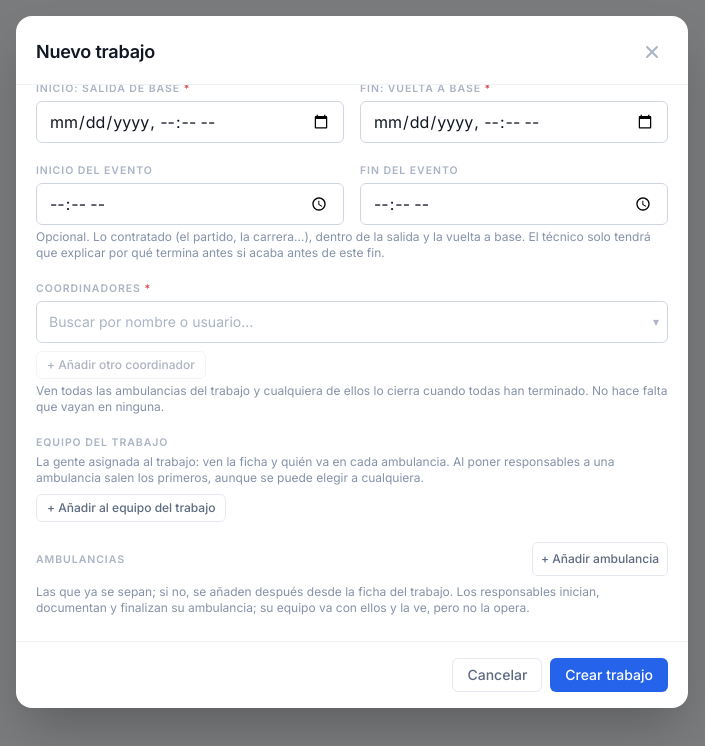
Scenario: TrabajoForm · aviso de hora de inicio pasada › avisa en la ambulancia, con su hora o con la del trabajo si la deja en blanco
(page scrolled)
Click the button "+ Añadir ambulancia" at (600, 559), box [532,542,668,576]
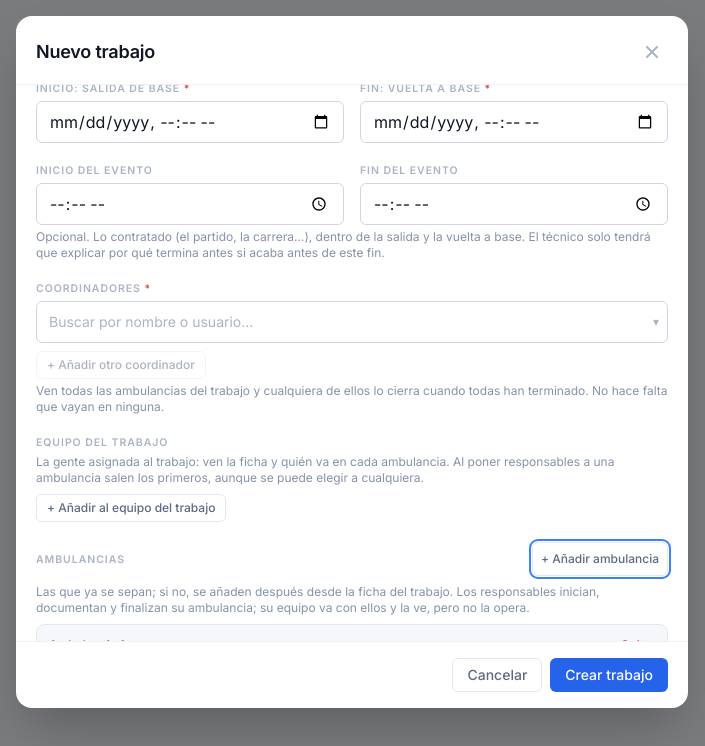
# En blanco toma la del trabajo
Type "2020-01-01T10:00" into the field below "Inicio: salida de base" at (190, 122), box [36,101,344,143]
(page scrolled)
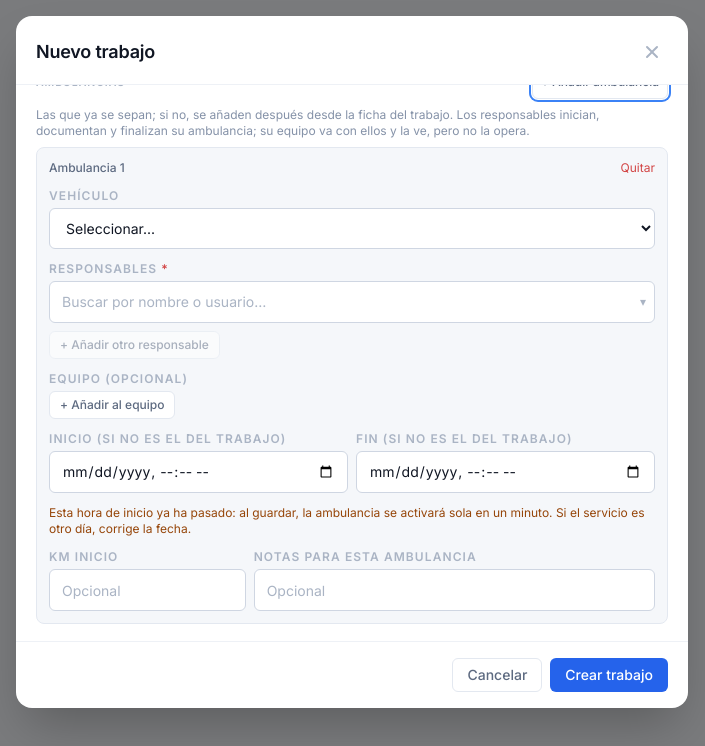
Expected: the text with test id "aviso-inicio-pasado" shows "se activará sola en un minuto", [49,505,644,536]
Type "2099-01-01T10:00" into the field below "Inicio (si no es el del trabajo)" at (198, 472), box [49,451,348,493]
(page scrolled)
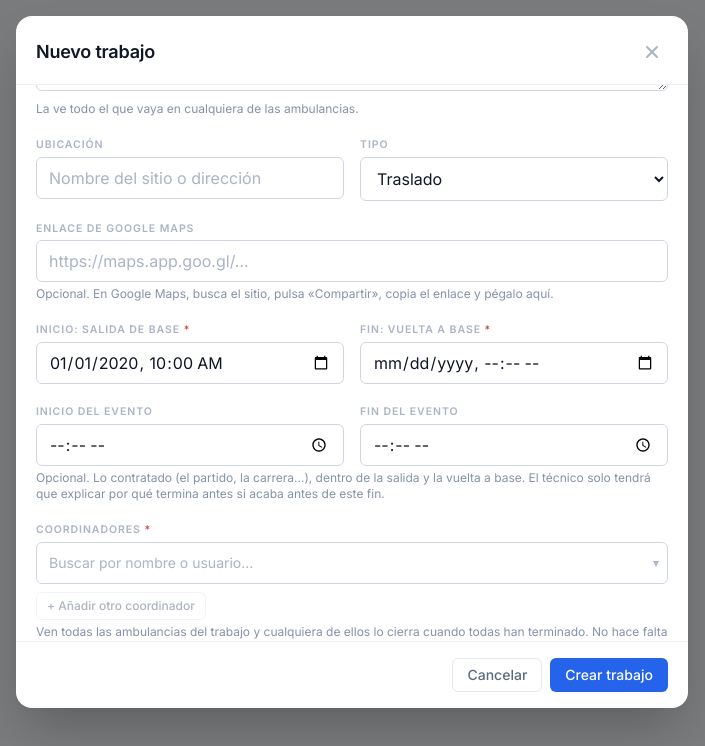
Expected: the text with test id "aviso-inicio-pasado" is gone
Replace the text in the field below "Inicio: salida de base" with "2099-01-01T09:00" at (190, 363), box [36,342,344,384]
(page scrolled)
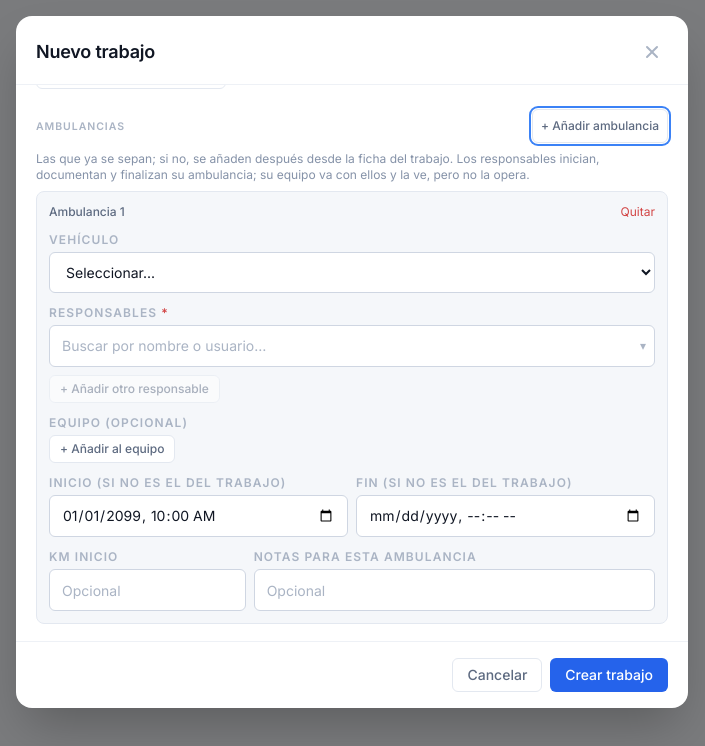
Replace the text in the field below "Inicio (si no es el del trabajo)" with "2020-01-01T10:00" at (198, 516), box [49,495,348,537]
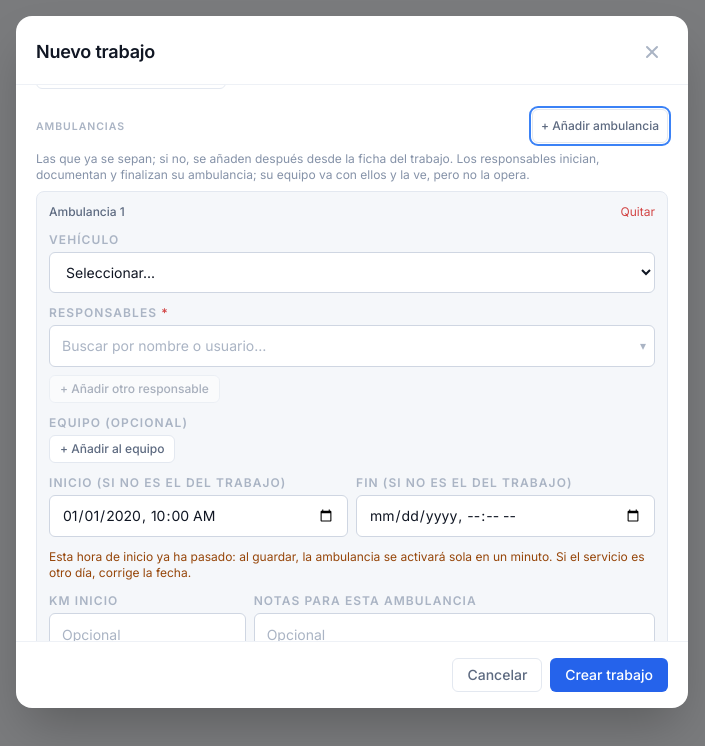
Expected: the text with test id "aviso-inicio-pasado" is shown, [49,549,655,581]
